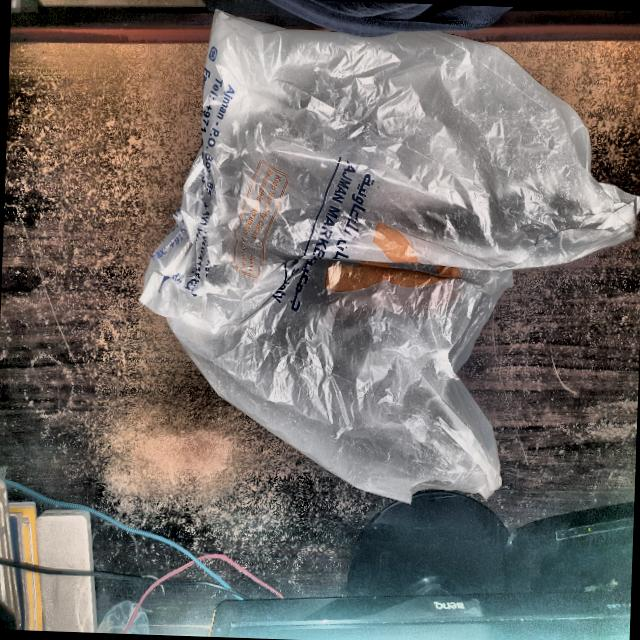plastic bag: (125, 0, 640, 514)
